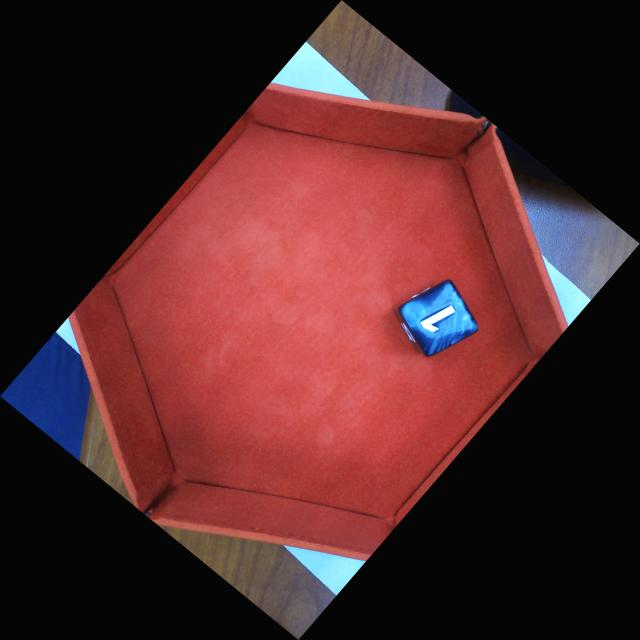dice: (399, 279, 479, 357)
